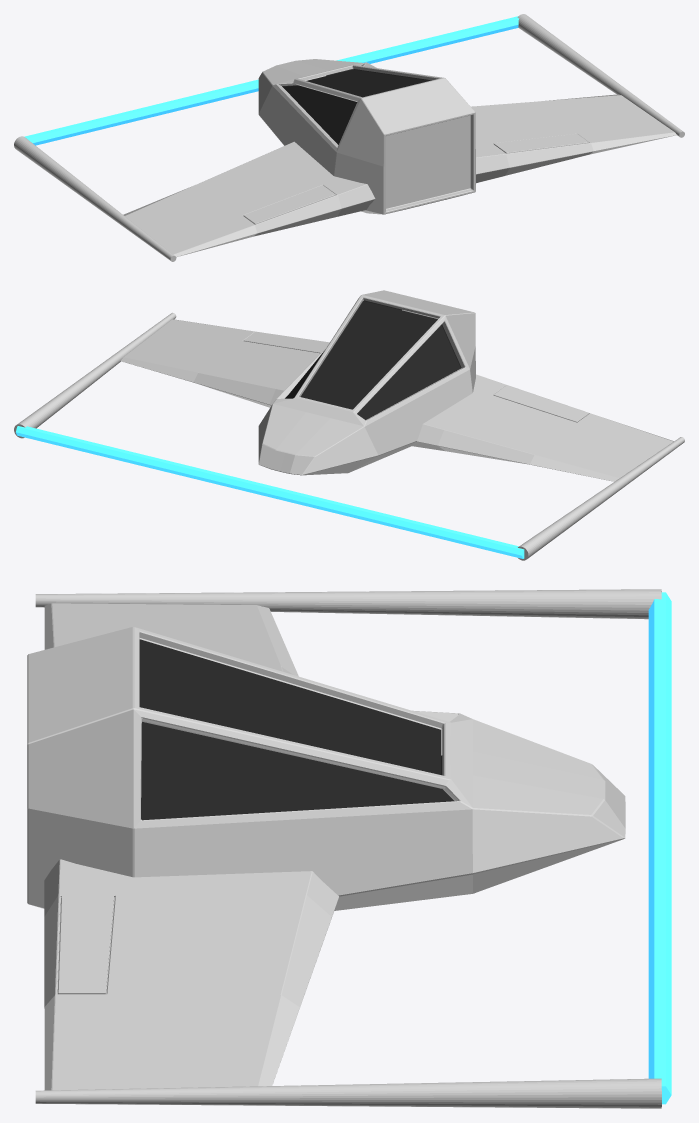
Rendered from ship3_003.gltf.
3 renders of one model, top to bottom at view 1: azimuth 30°, elevation 25°; view 2: azimuth 150°, elevation 25°; view 3: azimuth 270°, elevation 25°, orthographic. The views are drawn at different scales.
Parts seen in each view (by area): view 1: Cube, Body, Cylinder.011, Cylinder; view 2: Body, Cube, Cylinder.011, Cylinder; view 3: Body, Cube, Cylinder, Cylinder.011.
Part boxes in pixels (box(x1,y1,x2,y2)): Cube: box(123, 94, 676, 257); Body: box(258, 59, 475, 214); Cylinder.011: box(24, 16, 518, 145); Cylinder: box(14, 14, 684, 261); Body: box(258, 290, 475, 475); Cube: box(120, 319, 673, 481); Cylinder.011: box(16, 426, 524, 558); Cylinder: box(14, 312, 684, 560); Body: box(27, 627, 625, 910); Cube: box(44, 603, 339, 1090); Cylinder: box(35, 589, 661, 1108); Cylinder.011: box(648, 592, 671, 1104).
Size of the model in its own units: 2 by 0.4319 by 1.08.
